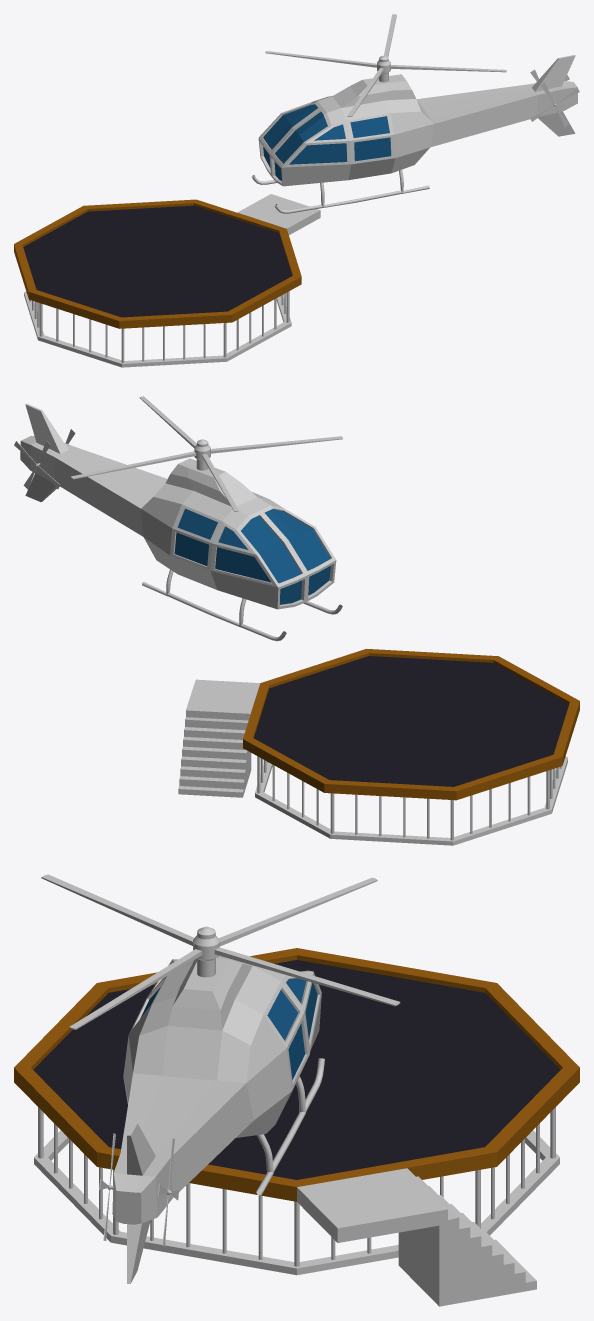
Rendered from copter_000179.obj.
3 views of the same model, one above another, from view 1: azimuth 30°, elevation 25°; view 2: azimuth 150°, elevation 25°; view 3: azimuth 270°, elevation 25° (orthographic). The views are drawn at different scales.
Parts seen in each view (by area): view 1: Cylinder.001_Cylinder.012, Helicopter.007_Cylinder.008, Helicopter.001_Cylinder.001, Cylinder.004, Cylinder.003_Cylinder.005, Cylinder.002; view 2: Cylinder.001_Cylinder.012, Helicopter.007_Cylinder.008, Helicopter.001_Cylinder.001, Cylinder.004, Cylinder.003_Cylinder.005, Cylinder.002; view 3: Cylinder.001_Cylinder.012, Helicopter.007_Cylinder.008, Helicopter.001_Cylinder.001, Cylinder.004, Cylinder.002, Cylinder.003_Cylinder.005.
Part boxes in pixels (x1,y1,x2,y2): Cylinder.001_Cylinder.012: [14, 194, 320, 367]; Helicopter.007_Cylinder.008: [251, 55, 577, 213]; Helicopter.001_Cylinder.001: [265, 14, 506, 116]; Cylinder.004: [142, 298, 276, 361]; Cylinder.003_Cylinder.005: [29, 293, 286, 357]; Cylinder.002: [26, 291, 289, 362]; Cylinder.001_Cylinder.012: [178, 648, 579, 845]; Helicopter.007_Cylinder.008: [20, 404, 342, 641]; Helicopter.001_Cylinder.001: [71, 396, 342, 511]; Cylinder.004: [272, 765, 429, 838]; Cylinder.003_Cylinder.005: [261, 758, 561, 833]; Cylinder.002: [257, 756, 565, 840]; Cylinder.001_Cylinder.012: [14, 948, 579, 1306]; Helicopter.007_Cylinder.008: [112, 955, 324, 1283]; Helicopter.001_Cylinder.001: [41, 874, 400, 1029]; Cylinder.004: [54, 1123, 539, 1219]; Cylinder.002: [38, 1107, 555, 1266]; Cylinder.003_Cylinder.005: [150, 1176, 443, 1259].
Bounding box in the file's own units: 13.24 × 5.59 × 6.77.
